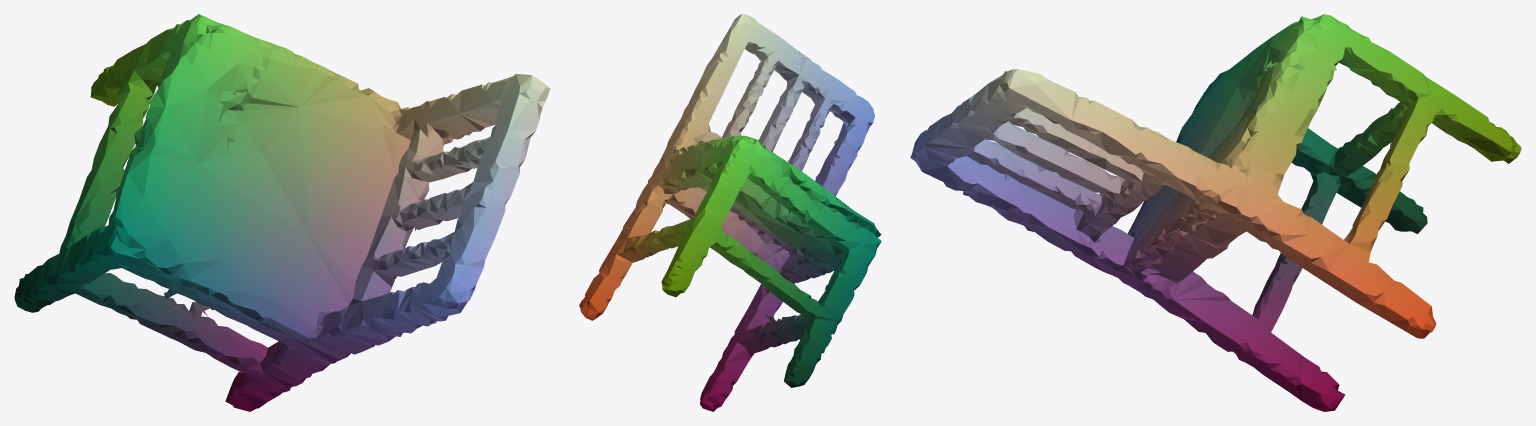
Rendered from corr_chair_source.glb.
3 views of the same model, side by side, from view 1: azimuth 30°, elevation 25°; view 2: azimuth 150°, elevation 25°; view 3: azimuth 270°, elevation 25° (orthographic). The views are drawn at different scales.
Parts seen in each view (by area): view 1: world; view 2: world; view 3: world.
Part boxes in pixels (bbox=[...]): world: bbox=[14, 14, 550, 411]; world: bbox=[579, 14, 881, 411]; world: bbox=[910, 14, 1521, 411].
Size of the model in its own units: 1.05 by 1.29 by 1.81.
